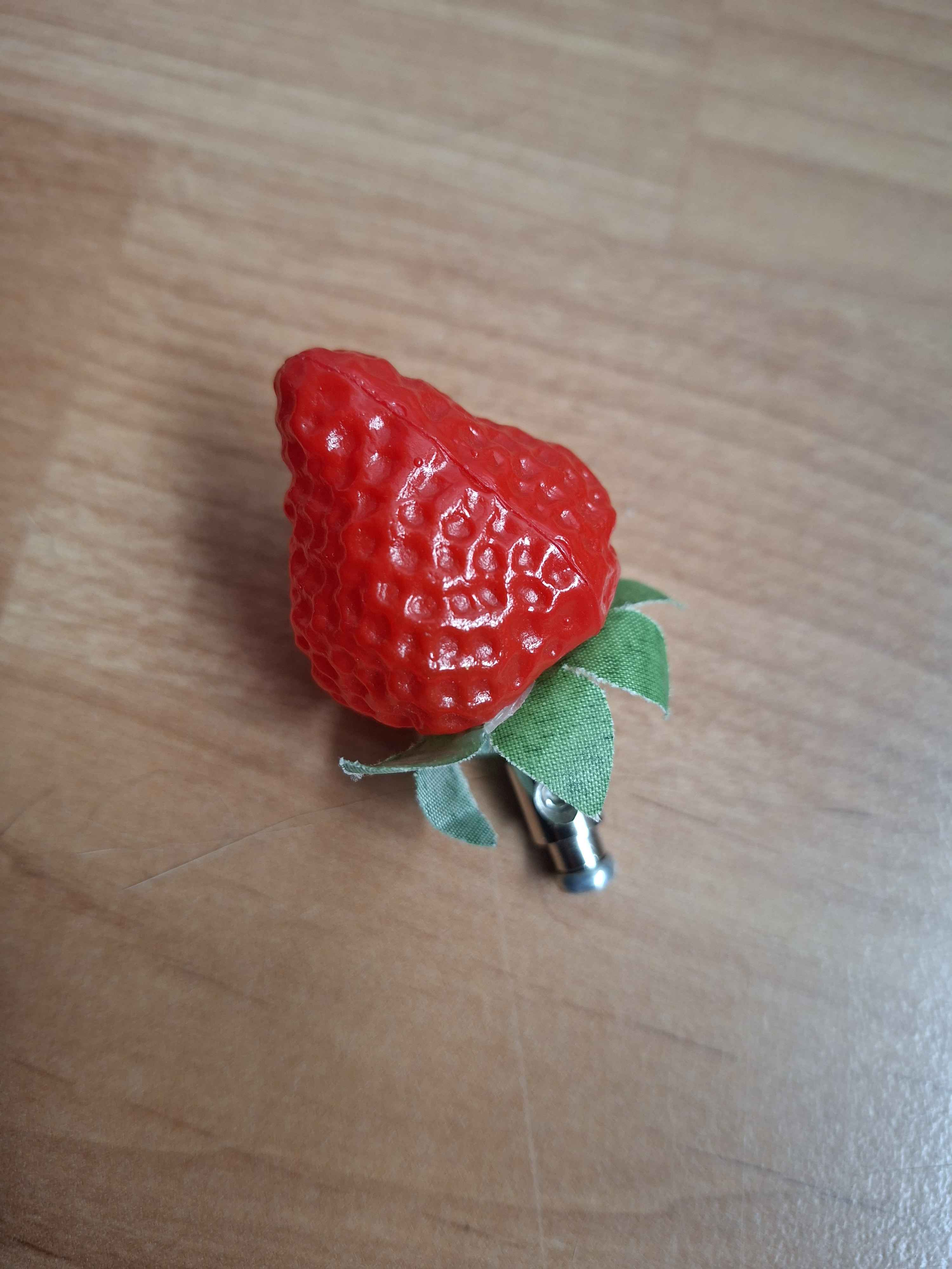Strawberry: (259, 336, 632, 745)
